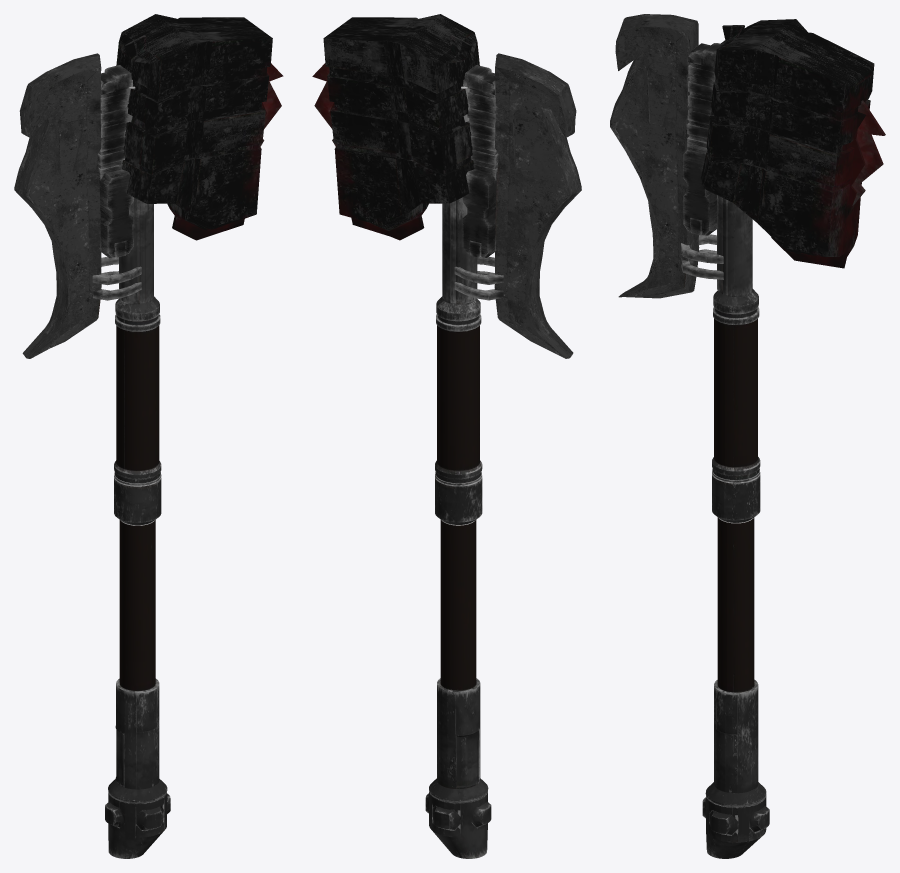
File: halo_gravity_hammer.glb
3 renders of one model, left to right at view 1: azimuth 30°, elevation 25°; view 2: azimuth 150°, elevation 25°; view 3: azimuth 330°, elevation 25°, orthographic. The views are drawn at different scales.
Parts seen in each view (by area): view 1: Cube.004_Metal3_0, Cube.004_Base_0, Cube.004_Metal2_0, Cube.004_Metal1_0; view 2: Cube.004_Metal3_0, Cube.004_Base_0, Cube.004_Metal2_0, Cube.004_Metal1_0; view 3: Cube.004_Metal3_0, Cube.004_Base_0, Cube.004_Metal2_0, Cube.004_Metal1_0.
Part boxes in pixels (x1,y1,x2,y2): Cube.004_Metal3_0: (116, 14, 272, 240); Cube.004_Base_0: (105, 84, 170, 858); Cube.004_Metal2_0: (14, 53, 283, 358); Cube.004_Metal1_0: (92, 65, 141, 300); Cube.004_Metal3_0: (323, 14, 479, 240); Cube.004_Base_0: (425, 84, 491, 858); Cube.004_Metal2_0: (312, 53, 581, 358); Cube.004_Metal1_0: (454, 65, 503, 300); Cube.004_Metal3_0: (701, 19, 874, 268); Cube.004_Base_0: (702, 195, 769, 858); Cube.004_Metal2_0: (610, 14, 885, 298); Cube.004_Metal1_0: (681, 43, 723, 279).
Size of the model in its own units: 1425 by 4131 by 386.
Materials: 4 (4 with a texture image).
